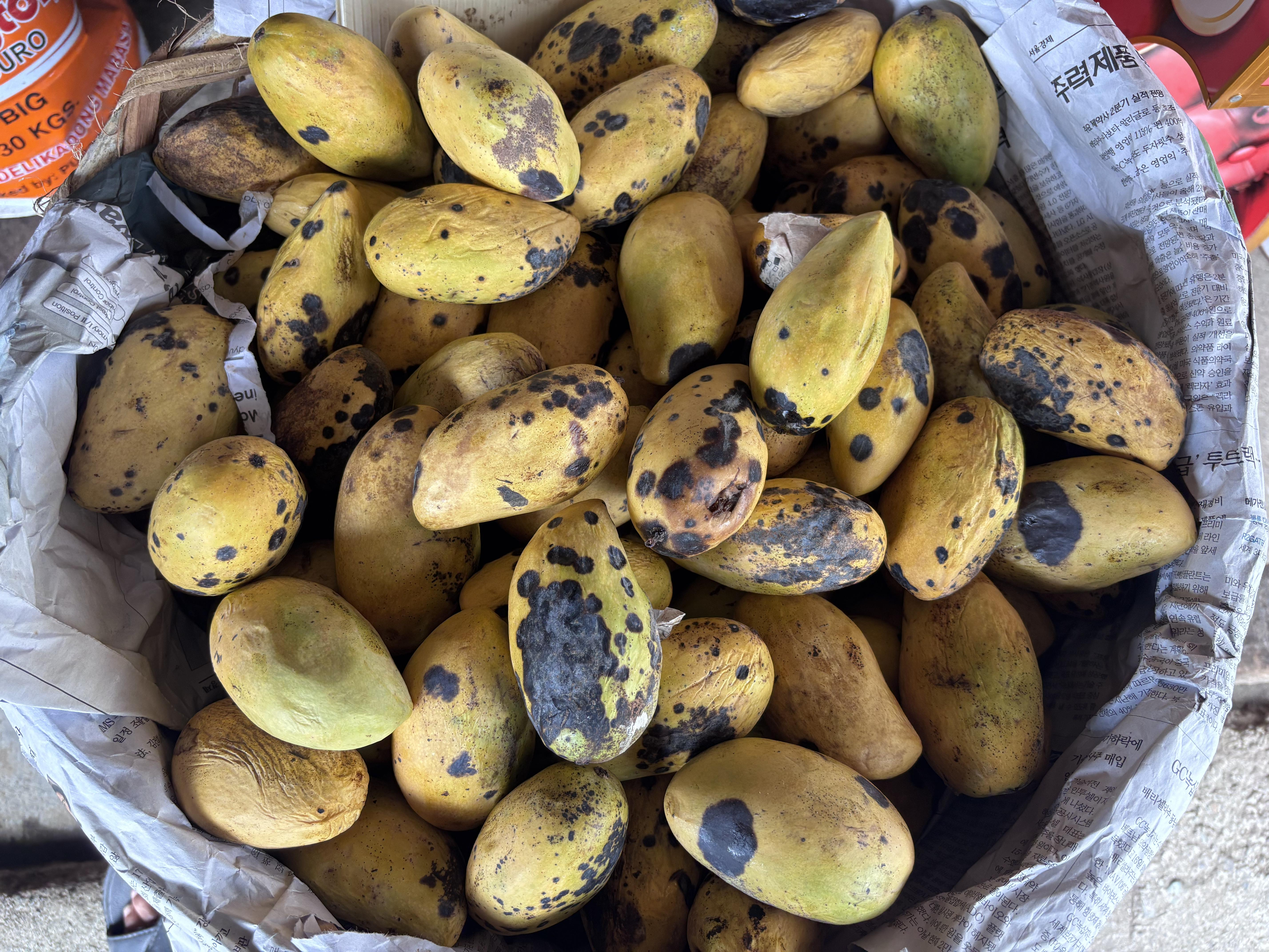mango: (665, 737, 914, 925), (509, 500, 661, 764), (412, 365, 628, 531), (209, 576, 411, 750), (979, 309, 1185, 471), (750, 211, 894, 436), (248, 12, 433, 182), (880, 397, 1024, 600), (466, 762, 628, 935), (627, 364, 768, 558), (363, 184, 580, 304), (417, 43, 580, 202), (148, 436, 307, 595), (618, 192, 744, 385), (872, 6, 1000, 190), (737, 8, 881, 117)
occluded: (334, 405, 478, 656), (68, 305, 238, 514), (736, 593, 922, 783), (899, 575, 1046, 797), (274, 779, 467, 947), (392, 608, 536, 830), (172, 700, 368, 849), (987, 455, 1196, 593), (603, 617, 774, 781), (555, 64, 710, 230), (674, 477, 887, 596), (257, 180, 379, 384), (529, 0, 717, 120), (580, 775, 702, 952), (827, 298, 932, 495), (498, 406, 650, 542), (153, 96, 330, 204), (274, 345, 392, 502), (488, 234, 619, 367), (897, 179, 1022, 316), (362, 287, 489, 388), (394, 332, 545, 416), (912, 262, 997, 404), (767, 85, 891, 179), (674, 93, 768, 210), (687, 875, 827, 952), (384, 5, 497, 85), (977, 186, 1051, 308), (812, 155, 923, 228), (694, 10, 782, 94), (603, 330, 669, 408), (265, 173, 343, 237), (994, 580, 1055, 656), (263, 539, 341, 593), (1034, 579, 1136, 620), (213, 249, 276, 315), (851, 616, 900, 696), (621, 536, 672, 609), (460, 551, 520, 609), (716, 0, 844, 26), (671, 575, 746, 619), (783, 441, 840, 488), (718, 308, 761, 364), (766, 429, 814, 478), (347, 177, 404, 218), (742, 224, 771, 283), (433, 146, 475, 184), (772, 181, 815, 214), (731, 212, 763, 249), (891, 238, 908, 292), (811, 214, 855, 230)
